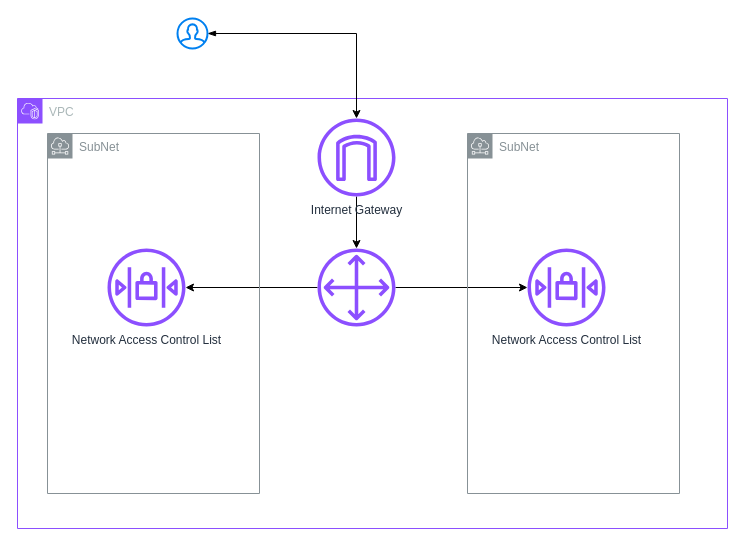
This 745x546 diagram has some shape labels left out. The shapes that lost their labels are listed below. From the top down, each one's centre as x and y in pixels, then its label:
At (192,33): "Usuario".
At (356,287): "Router".
